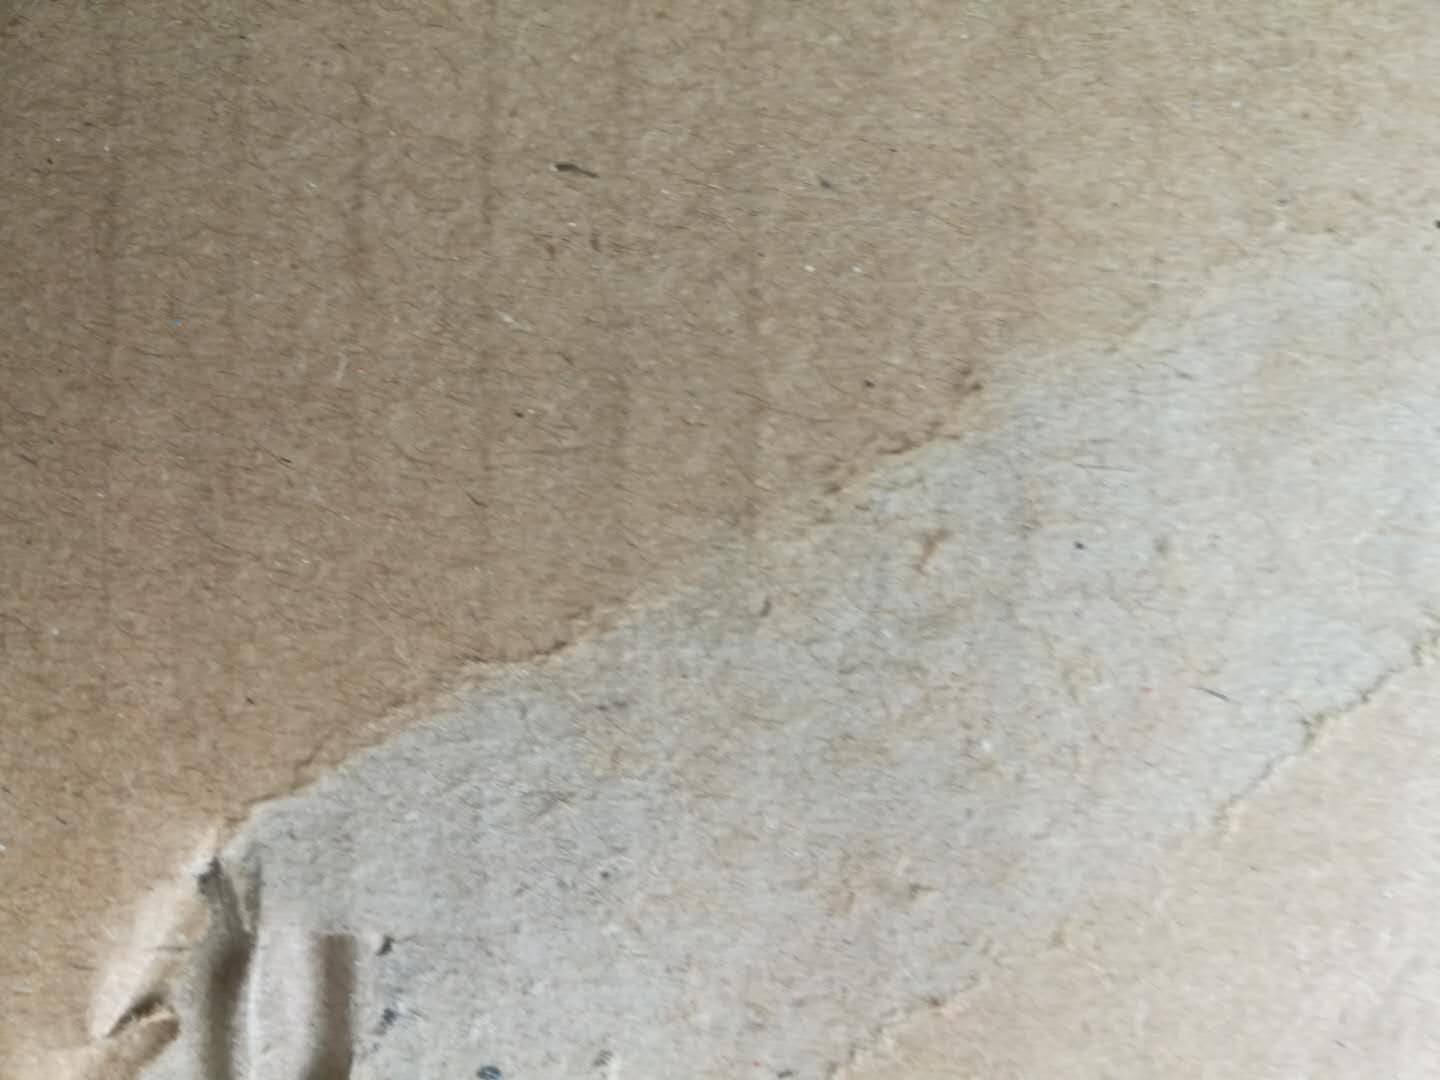defect: (3, 164, 1440, 1079)
